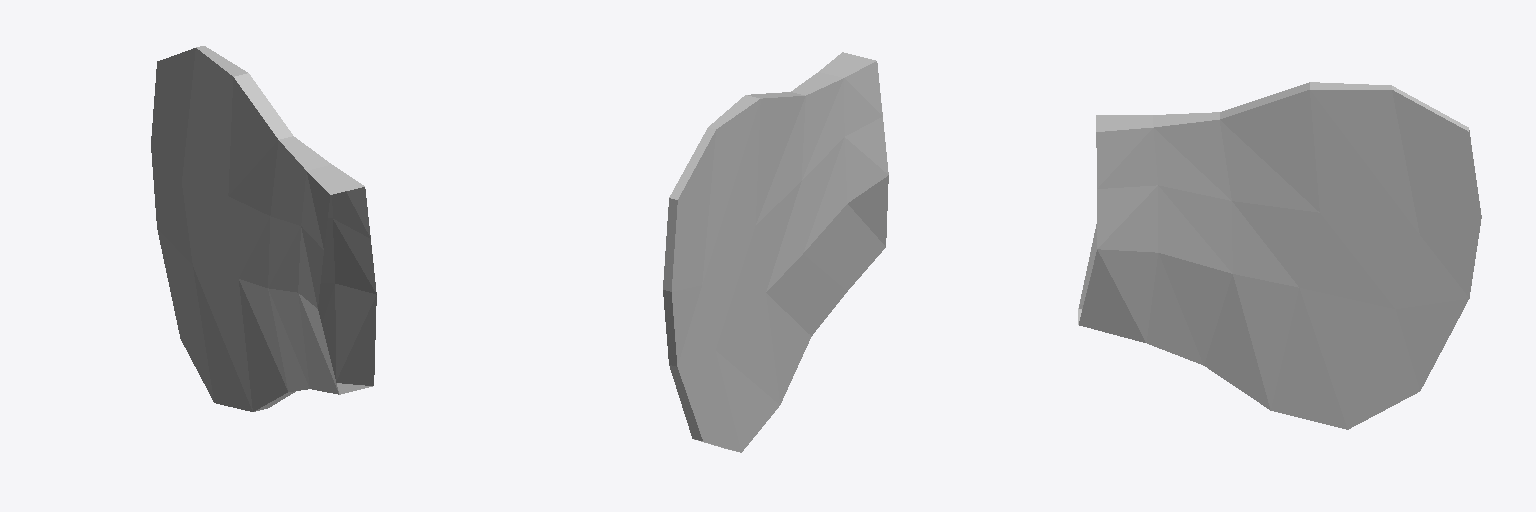
Rendered from tail.obj.
3 renders of one model, left to right at view 1: azimuth 30°, elevation 25°; view 2: azimuth 150°, elevation 25°; view 3: azimuth 270°, elevation 25°, orthographic.
Visible parts, largest first — view 1: polySurface2 TropicalFish12; view 2: polySurface2 TropicalFish12; view 3: polySurface2 TropicalFish12.
Part boxes in pixels (bbox=[...]): polySurface2 TropicalFish12: bbox=[151, 46, 376, 411]; polySurface2 TropicalFish12: bbox=[663, 52, 888, 452]; polySurface2 TropicalFish12: bbox=[1078, 82, 1481, 429].
Size of the model in its own units: 0.1831 by 1.01 by 1.09.